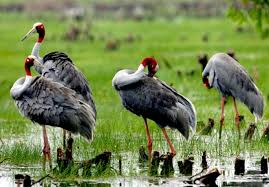seu_dau_do: (13, 54, 94, 171), (111, 56, 198, 159), (20, 21, 95, 120), (199, 49, 265, 136)
